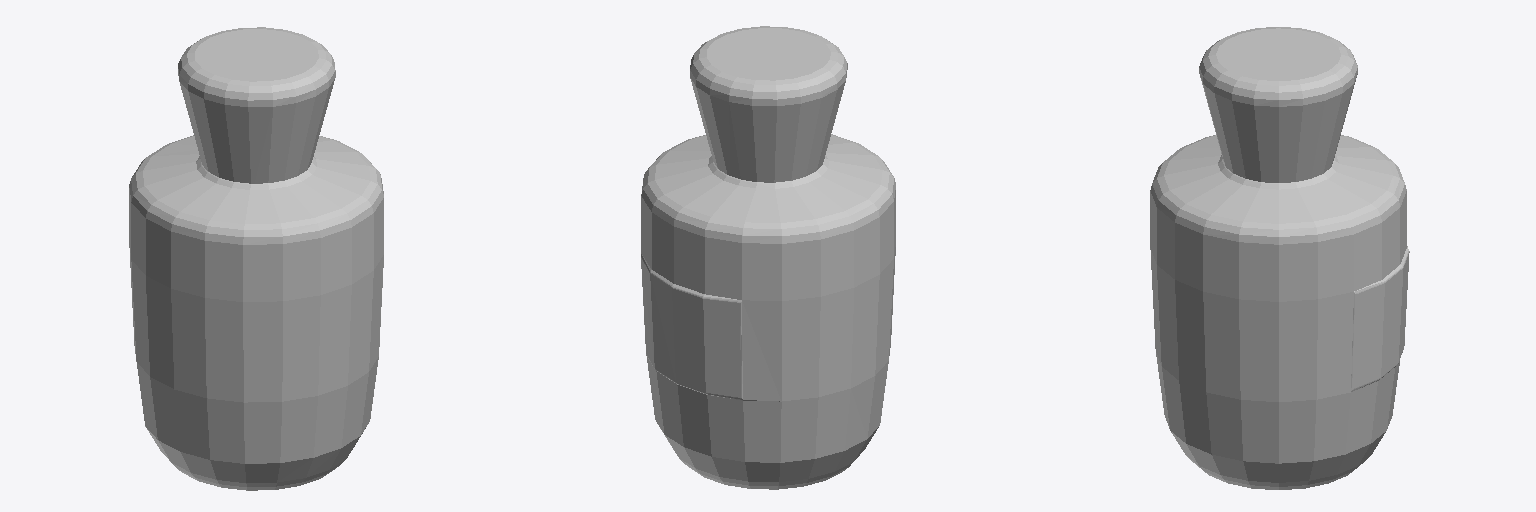
Rendered from Pote para Unity.obj.
3 views of the same model, side by side, from view 1: azimuth 30°, elevation 25°; view 2: azimuth 150°, elevation 25°; view 3: azimuth 270°, elevation 25° (orthographic).
Visible parts, largest first — view 1: Object002, Object003; view 2: Object002, Object003, Object001; view 3: Object002, Object003, Object001.
Boxes of the visible parts, x1,y1,x2,y2 form: Object002: [129, 135, 383, 490]; Object003: [178, 27, 335, 183]; Object002: [641, 134, 895, 489]; Object003: [690, 26, 847, 182]; Object001: [641, 258, 740, 397]; Object002: [1150, 135, 1409, 489]; Object003: [1199, 27, 1357, 182]; Object001: [1353, 252, 1409, 388].
Bounding box in the file's own units: 10.88 × 18.84 × 11.